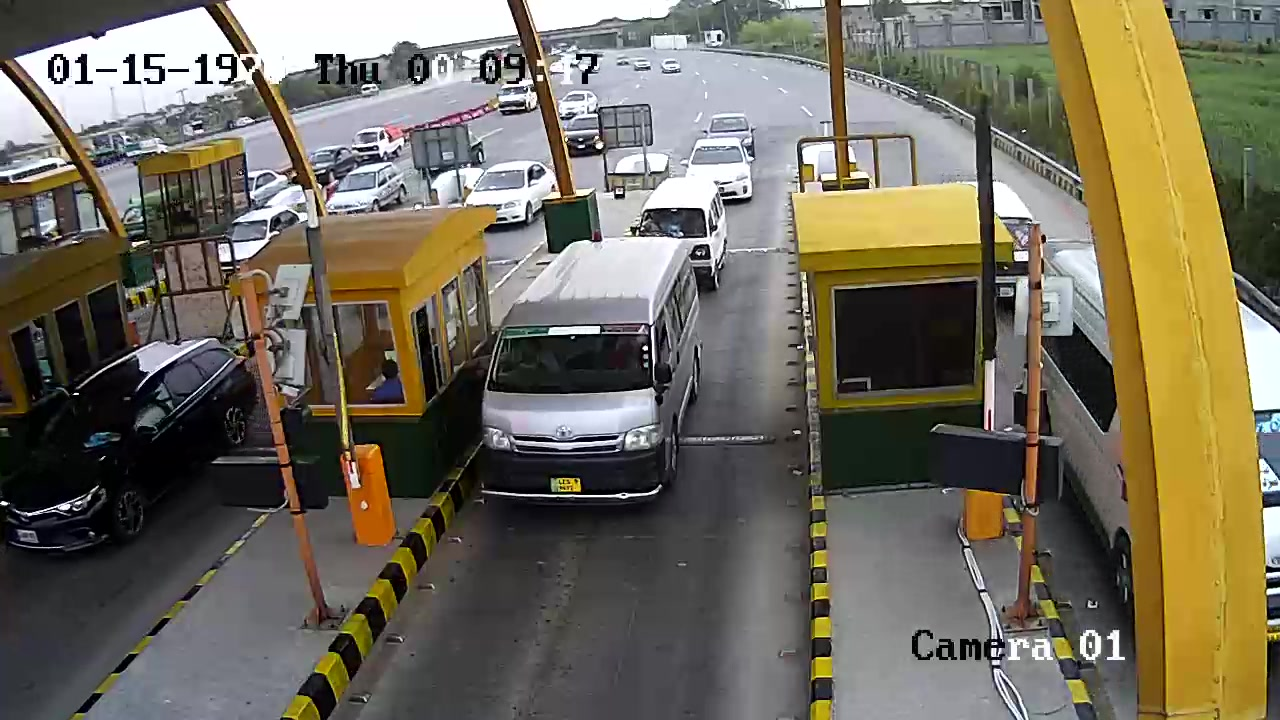F2: (471, 230, 707, 513)
